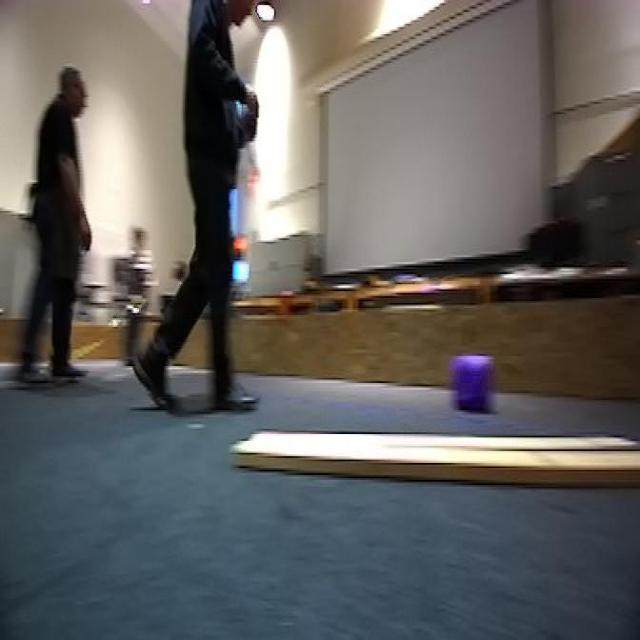frc_cube: (450, 354, 496, 415)
